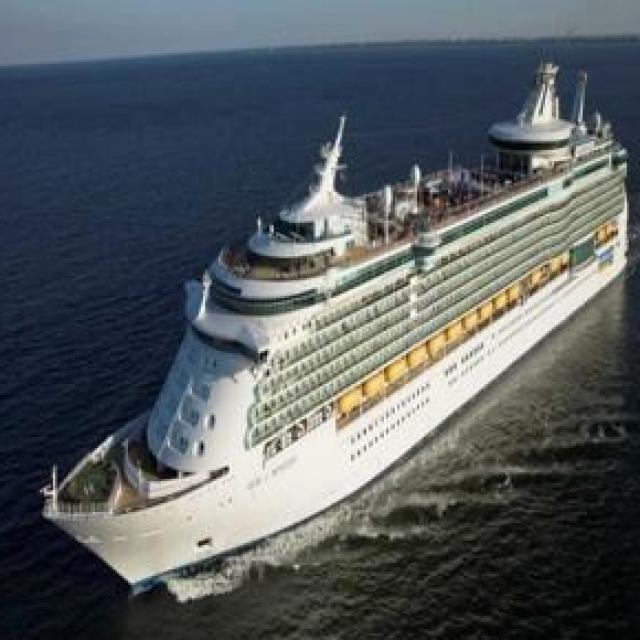passenger ship: (51, 52, 637, 584)
